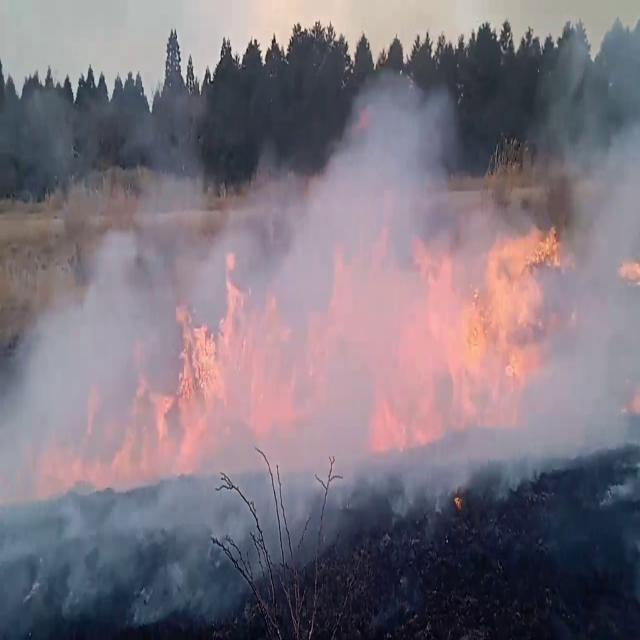Fire: (392, 206, 562, 434), (136, 236, 268, 470)
Smoke: (2, 58, 600, 476)
